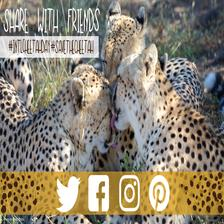Cheetah: (0, 49, 118, 224), (81, 0, 161, 222)
